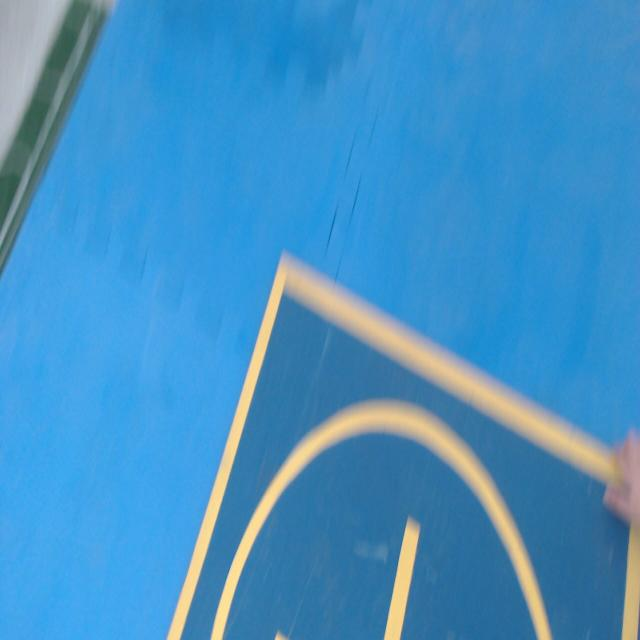base_pouso: (169, 249, 640, 639)
